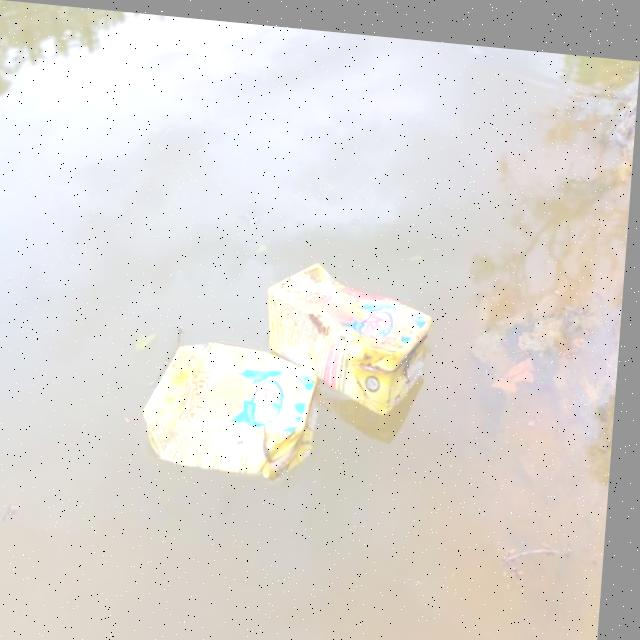paper: (261, 247, 464, 411), (133, 323, 327, 481)
